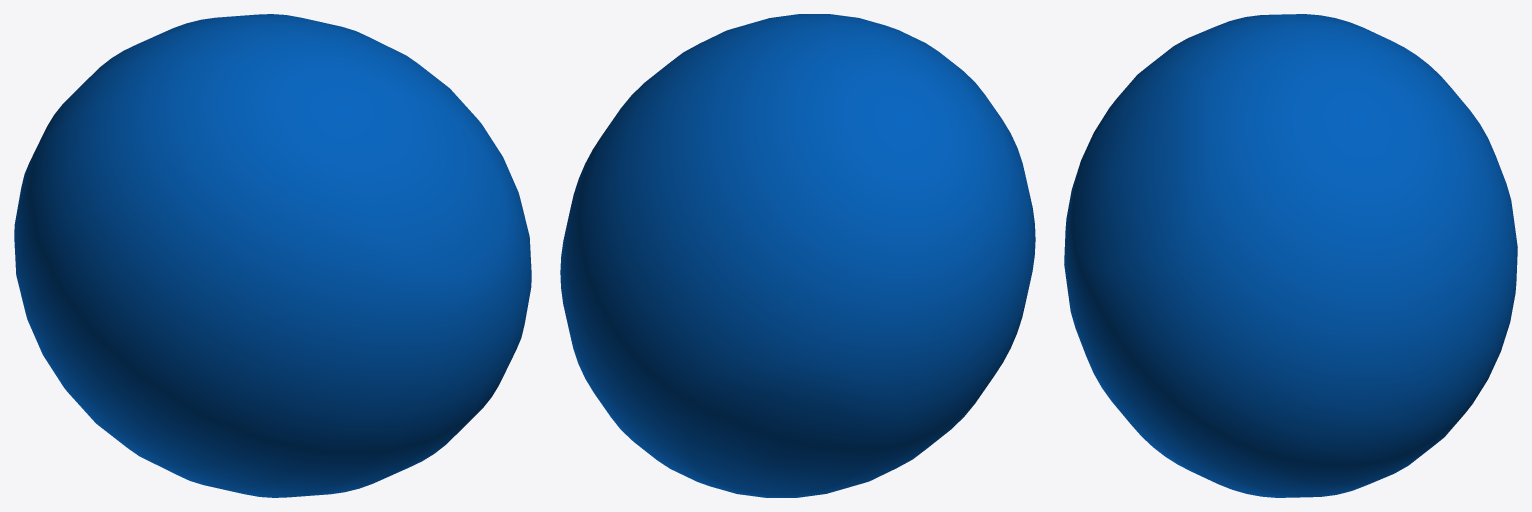
Rendered from plasma ball hologram puzzle lock hologram plasma ball.fbx.
3 renders of one model, left to right at view 1: azimuth 30°, elevation 25°; view 2: azimuth 150°, elevation 25°; view 3: azimuth 270°, elevation 25°, orthographic. The views are drawn at different scales.
Parts seen in each view (by area): view 1: 1298d8e0-6f8a-43df-a1e5-1b40802fde66; view 2: 1298d8e0-6f8a-43df-a1e5-1b40802fde66; view 3: 1298d8e0-6f8a-43df-a1e5-1b40802fde66.
Part boxes in pixels (box(x1,y1,x2,y2)): 1298d8e0-6f8a-43df-a1e5-1b40802fde66: box(14, 14, 531, 497); 1298d8e0-6f8a-43df-a1e5-1b40802fde66: box(560, 14, 1035, 497); 1298d8e0-6f8a-43df-a1e5-1b40802fde66: box(1064, 14, 1517, 497).
Size of the model in its own units: 2637 by 2612 by 2531.
